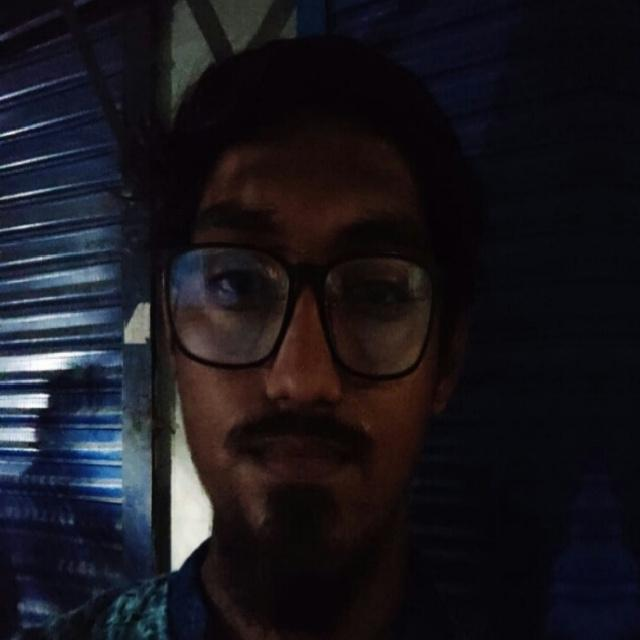Natural: (152, 92, 466, 542)
